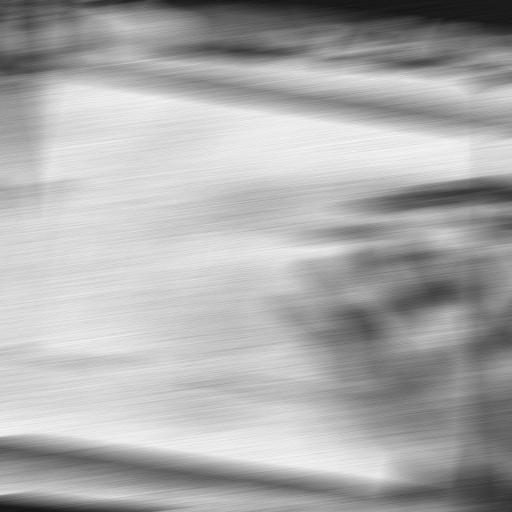bottom_left: (487, 133, 512, 143)
bottom_right: (395, 489, 430, 496)
door: (0, 180, 473, 418)
top_left: (18, 65, 48, 71)
